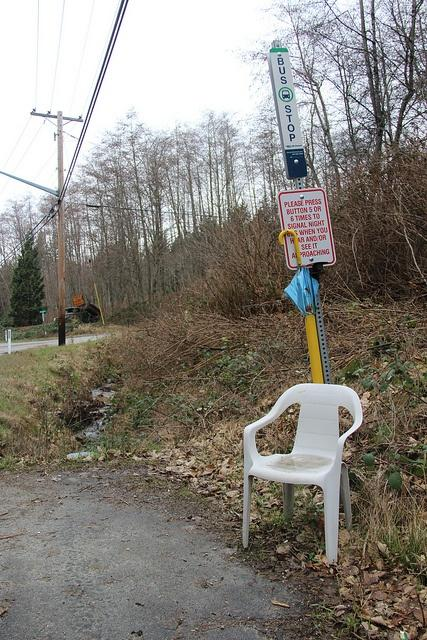Kursi: (240, 382, 363, 567)
